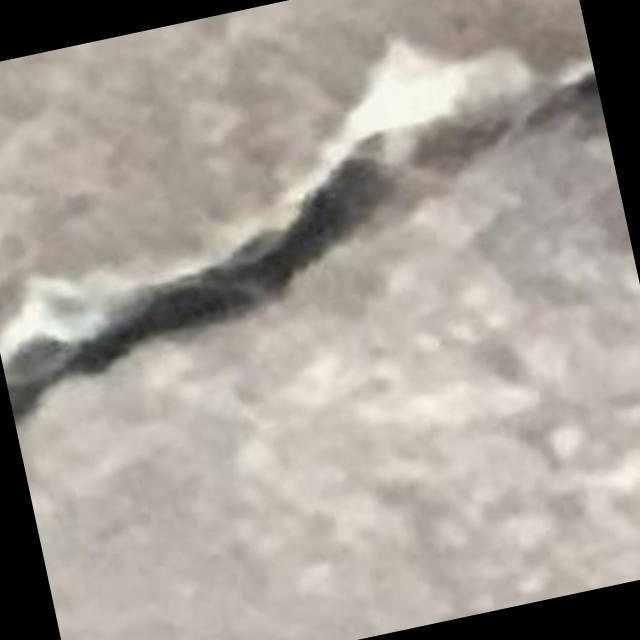crack: (0, 47, 599, 423)
